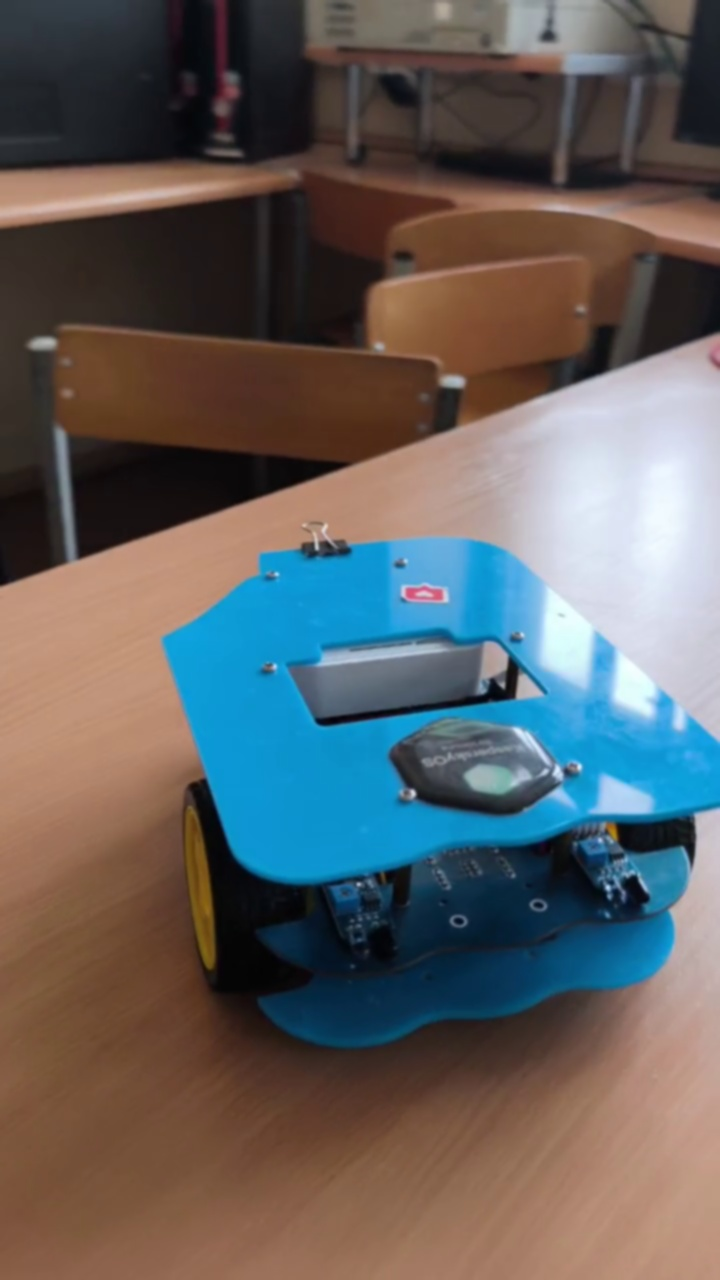robot: (158, 517, 720, 1051)
